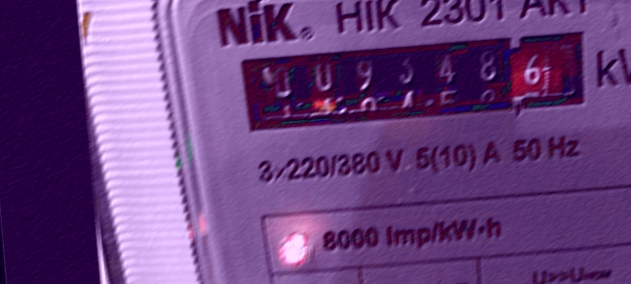0: (311, 58, 335, 95), (271, 63, 293, 100)
3: (393, 51, 418, 85)
4: (433, 48, 457, 87)
6: (520, 51, 545, 86)
8: (476, 47, 499, 82)
9: (354, 55, 375, 91)
screen: (217, 15, 609, 149)
